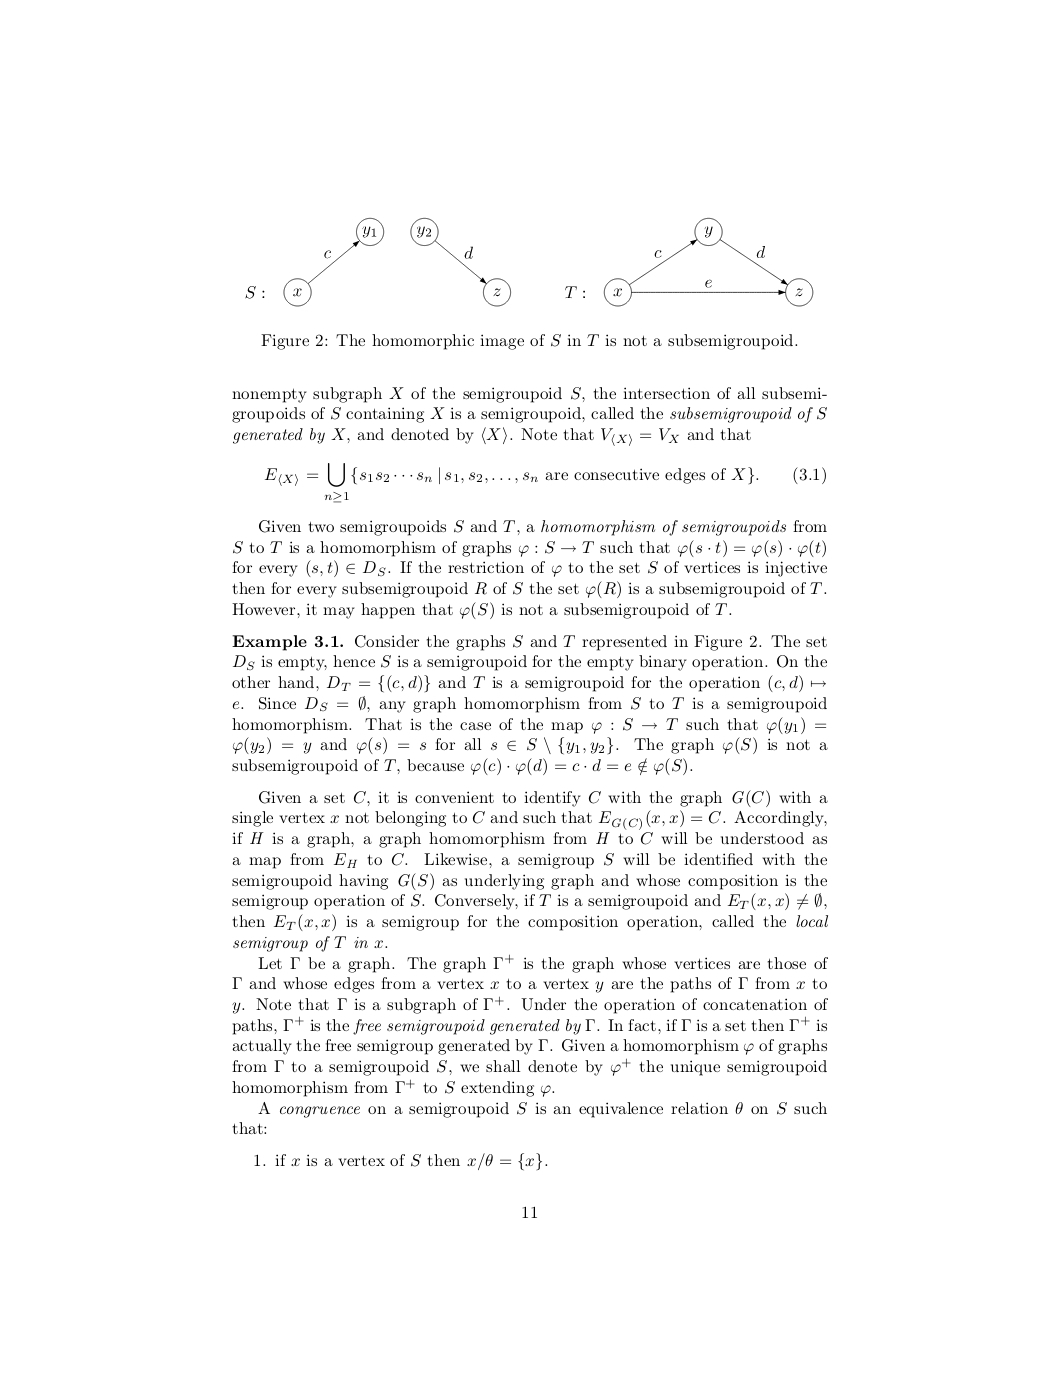figure: (245, 217, 512, 306), (565, 217, 812, 306)
formula: (264, 462, 825, 502)
